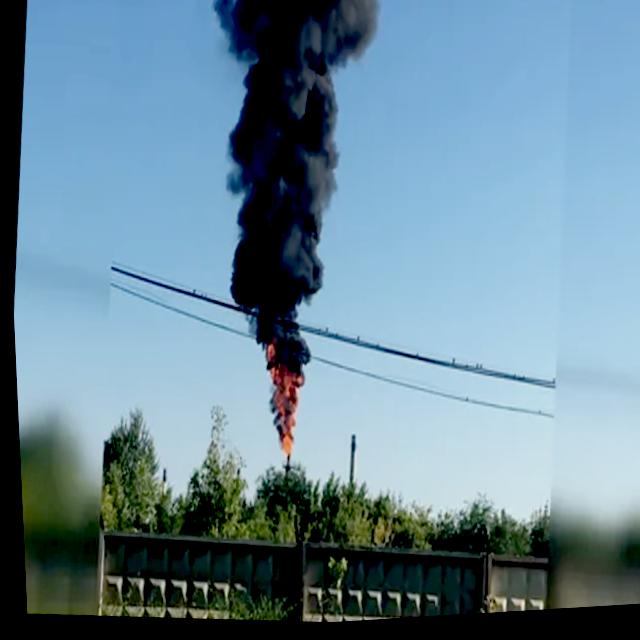Smoke: (171, 0, 395, 468)
